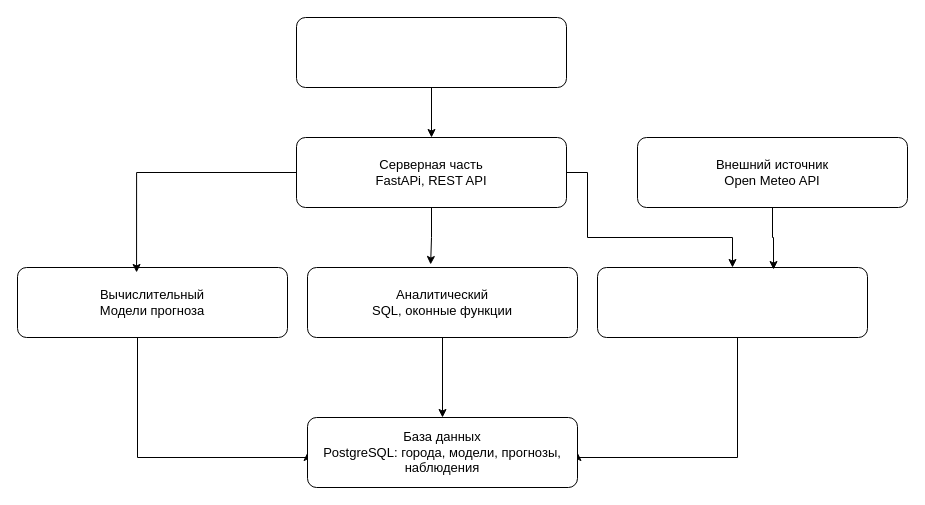
This 925x505 diagram has some shape labels left out. The shapes that lost their labels are listed below. From the top down, each one's centre as x and y in pixels, then its label:
At (431,52): "Интерфейс Выбор города, графики метрики".
At (732,302): "Загрузчик Защита от дублей, ETL".
